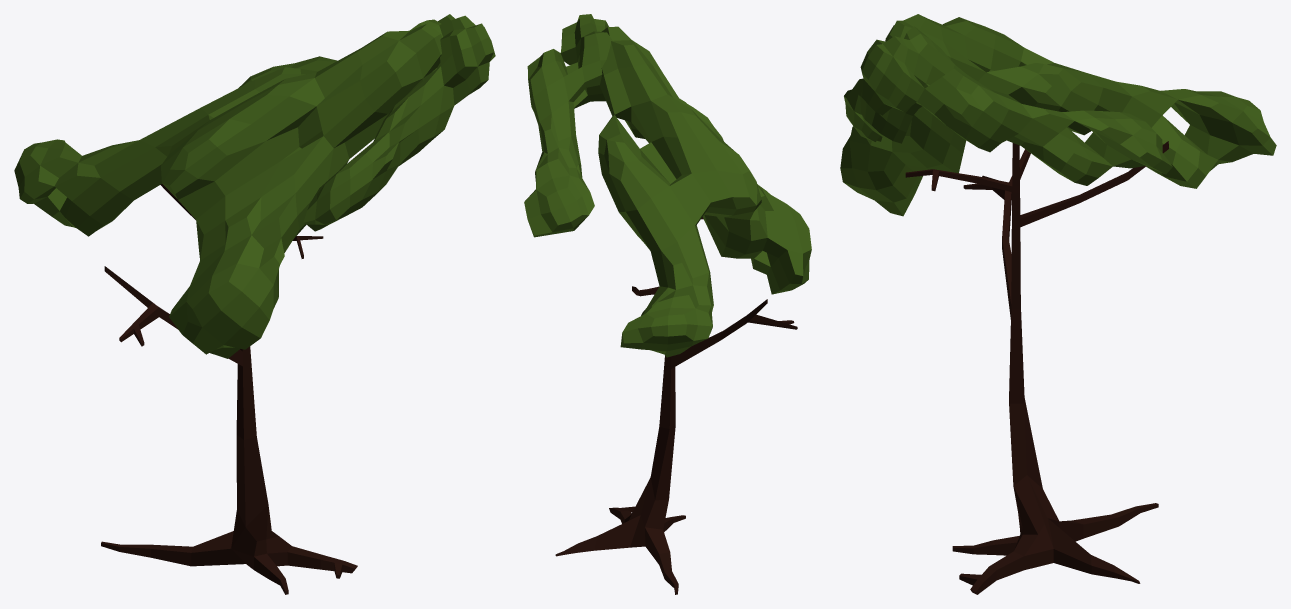
The model's file is tree1.obj.
3 renders of one model, left to right at view 1: azimuth 30°, elevation 25°; view 2: azimuth 150°, elevation 25°; view 3: azimuth 270°, elevation 25°, orthographic. The views are drawn at different scales.
Parts seen in each view (by area): view 1: Cube.002_Cube.010, Cube; view 2: Cube.002_Cube.010, Cube; view 3: Cube.002_Cube.010, Cube.
Boxes of the visible parts, box(x1,y1,x2,y2) form: Cube.002_Cube.010: box(14, 14, 495, 358); Cube: box(101, 184, 357, 594); Cube.002_Cube.010: box(524, 14, 811, 357); Cube: box(555, 217, 797, 594); Cube.002_Cube.010: box(840, 14, 1276, 216); Cube: box(905, 141, 1168, 594).
Bounding box in the file's own units: 26.54 × 42.03 × 28.06.
